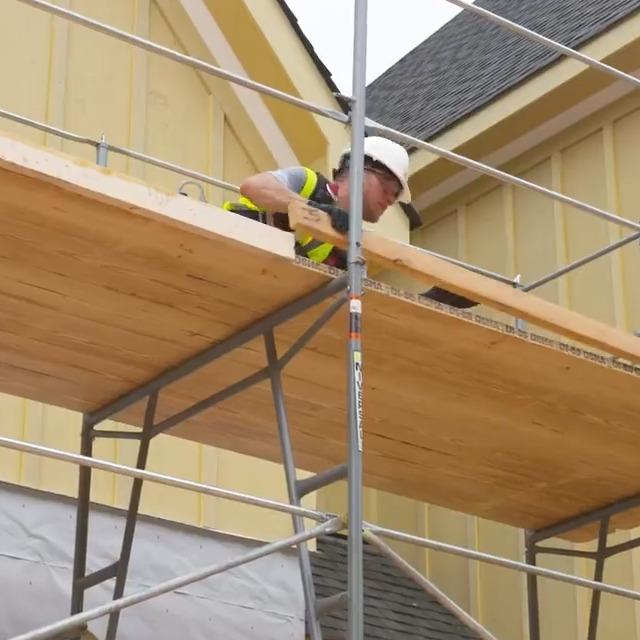Hardhat: (339, 135, 412, 203)
NO-Mask: (366, 187, 386, 224)
Person: (222, 135, 411, 264)
Safety Vest: (221, 165, 334, 262)
